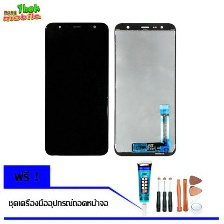phone: (41, 16, 110, 158), (114, 19, 179, 157)
